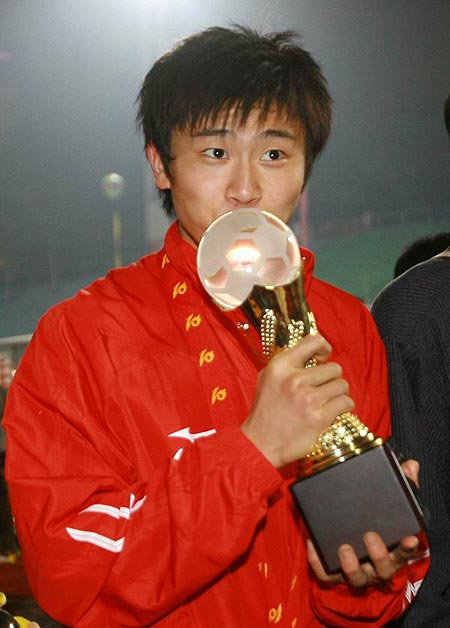face: (170, 70, 304, 264)
